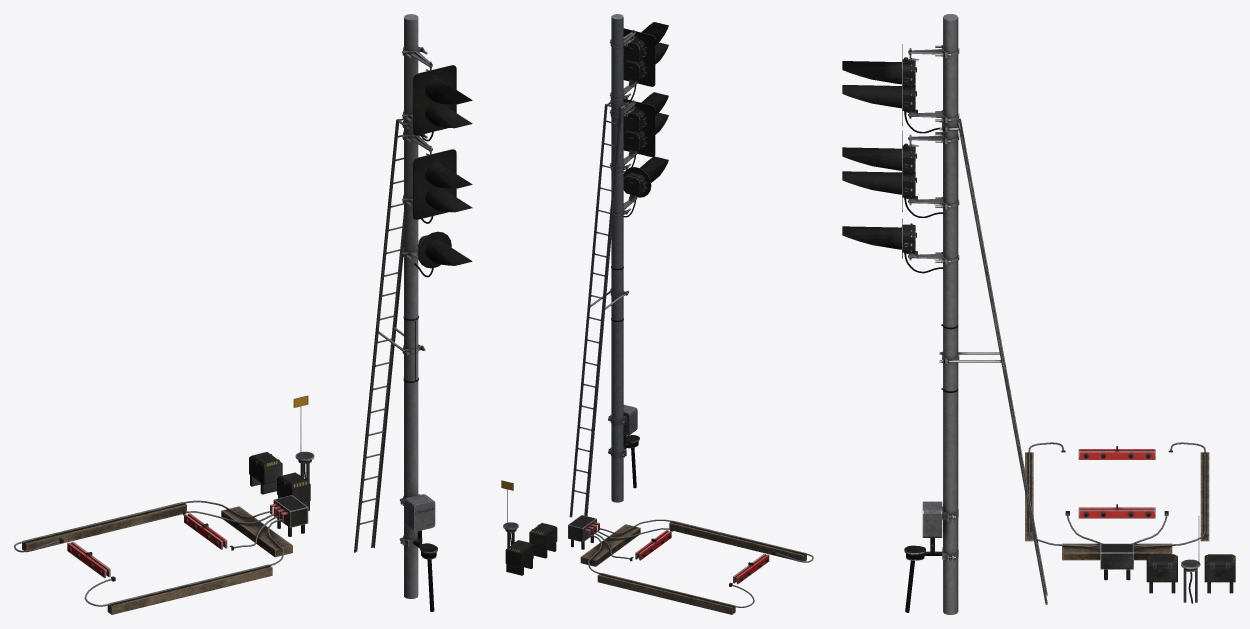
File: RM_sig_MM1_2+2+1_entr.gltf
3 renders of one model, left to right at view 1: azimuth 30°, elevation 25°; view 2: azimuth 150°, elevation 25°; view 3: azimuth 270°, elevation 25°, orthographic. The views are drawn at different scales.
Parts seen in each view (by area): view 1: Светофор ВХОДНОЙ, Изостык; view 2: Светофор ВХОДНОЙ, Изостык; view 3: Светофор ВХОДНОЙ, Изостык.
Boxes of the visible parts, bbox=[...] form: Светофор ВХОДНОЙ: bbox=[354, 14, 472, 611]; Изостык: bbox=[14, 395, 314, 614]; Светофор ВХОДНОЙ: bbox=[569, 14, 668, 517]; Изостык: bbox=[501, 480, 813, 614]; Светофор ВХОДНОЙ: bbox=[842, 14, 1047, 614]; Изостык: bbox=[1025, 442, 1235, 603].
Size of the model in its own units: 4.1 by 7.57 by 4.54.
Materials: 3 (2 with a texture image).
